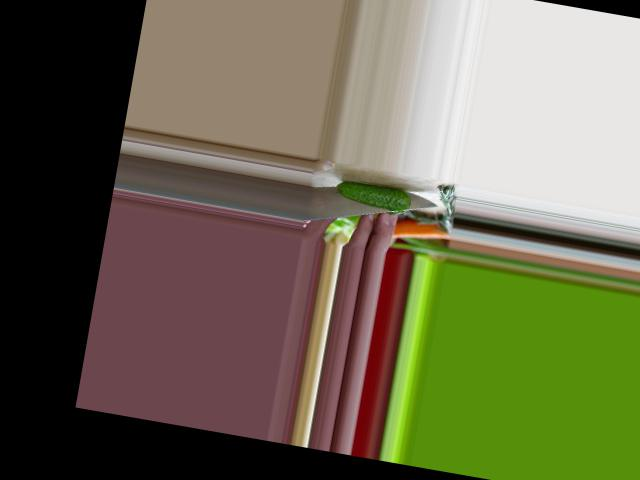cucumber: (335, 177, 413, 213)
